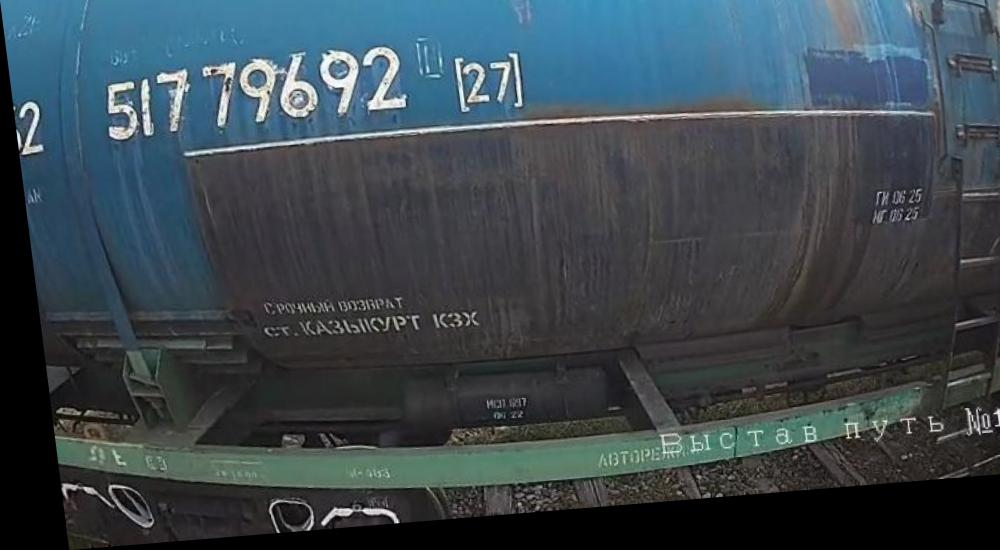Wagon-number: (93, 44, 416, 144)
